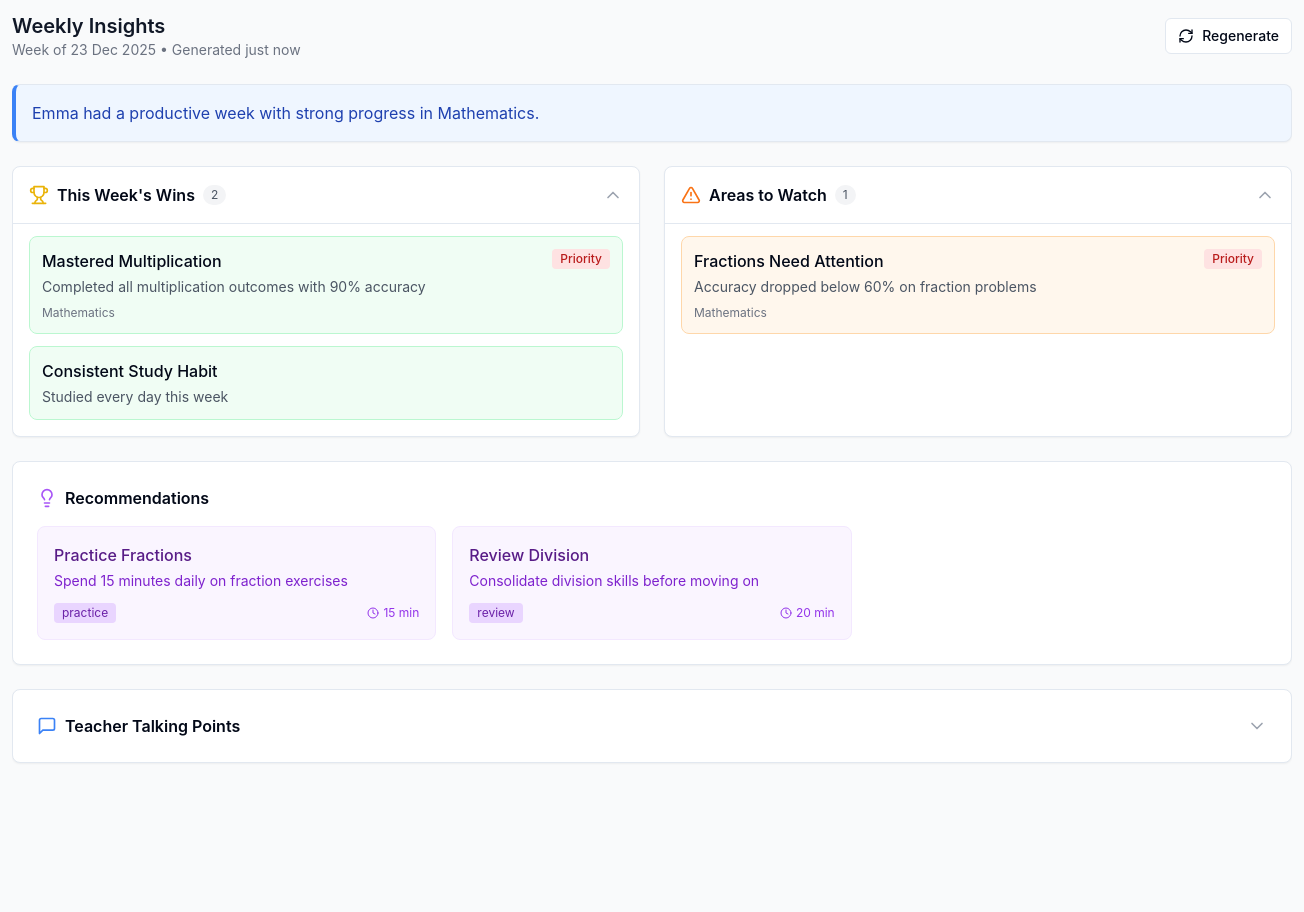
Test case: InsightsTab › teacher talking points section › expands to show talking points when clicked
Click the button with aria-label "Expand Teacher Talking Points".
click(153, 726)  # box [37, 714, 1267, 738]
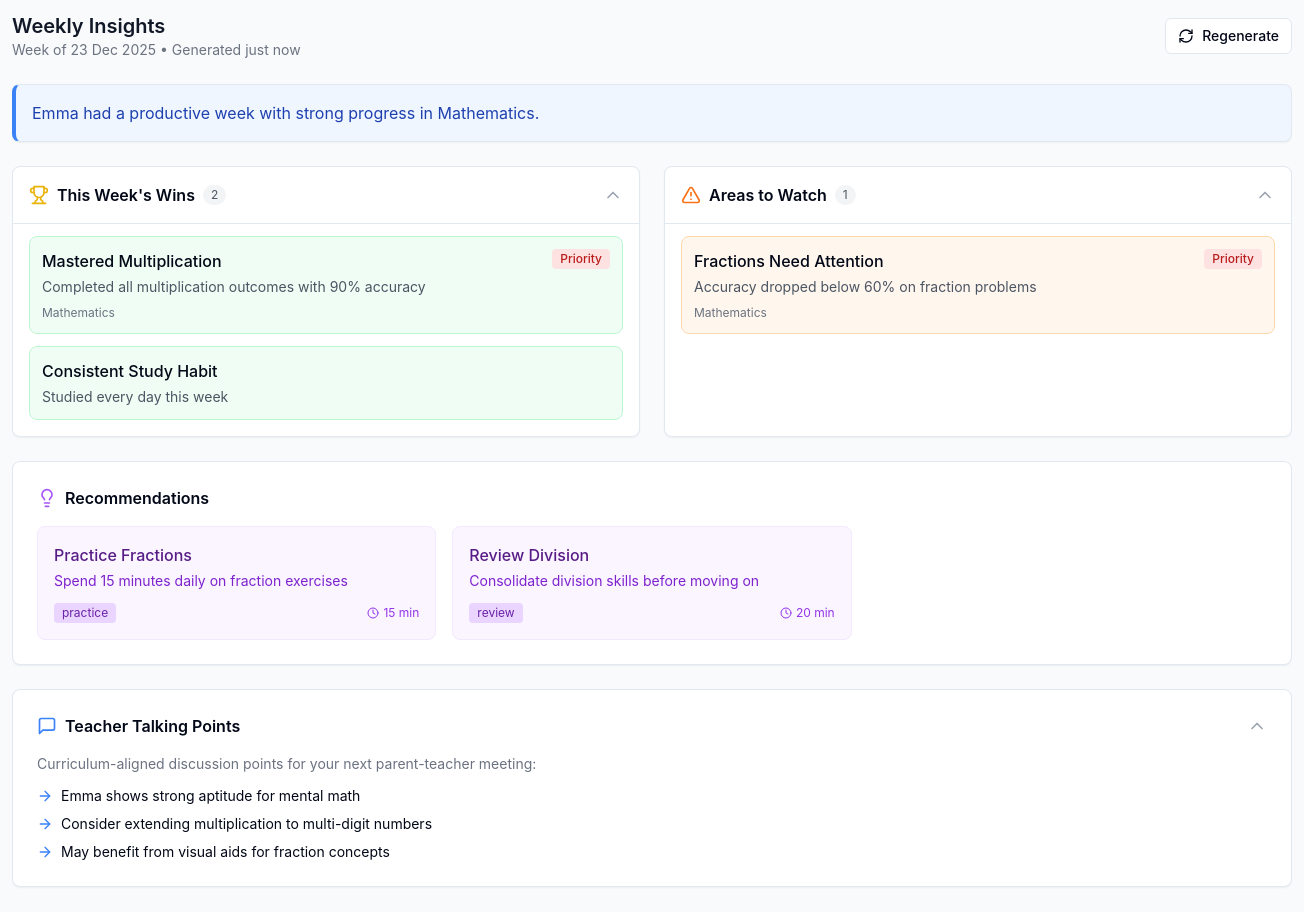
Check: the text "Emma shows strong aptitude for mental math" is shown, box [61, 786, 360, 806]
Check: the text "Consider extending multiplication to multi-digit numbers" is shown, box [61, 814, 432, 834]
